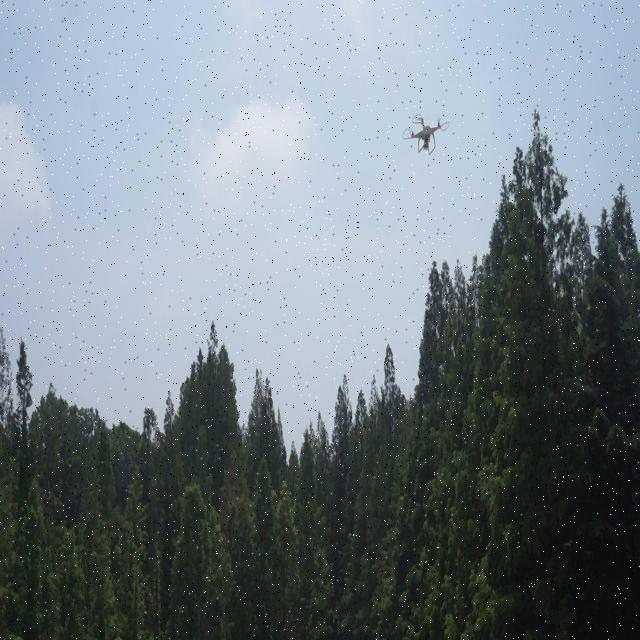UAV: (402, 113, 450, 155)
